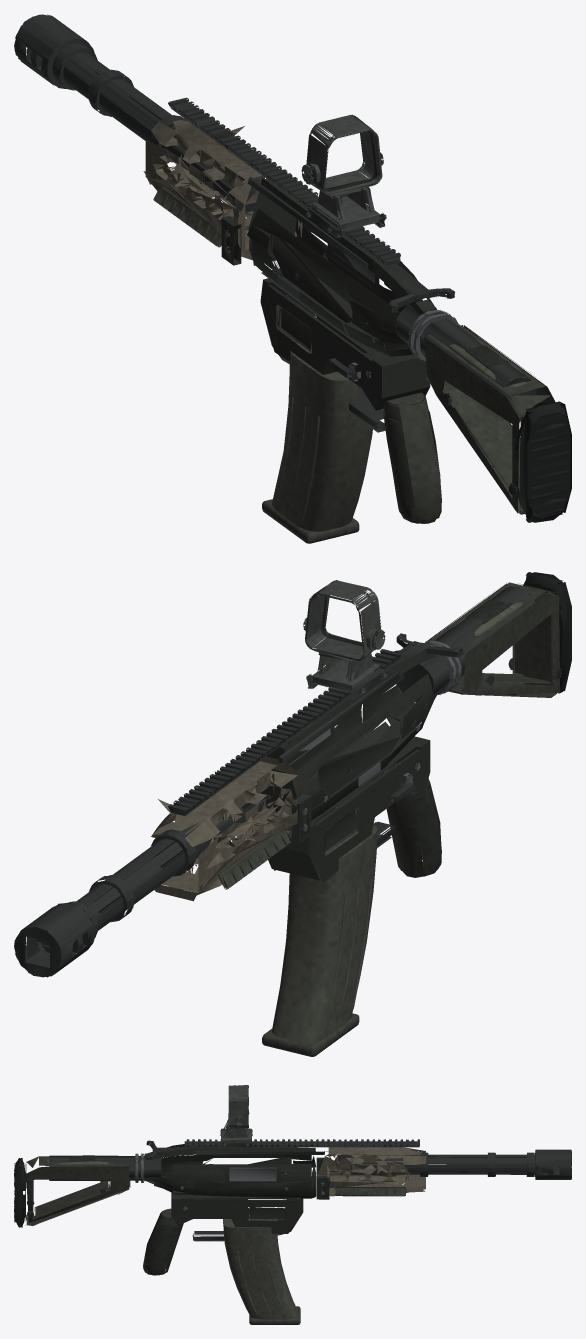
Rendered from carbine_mobile.glb.
The picture shows the model from 3 angles, top to bottom: view 1: azimuth 30°, elevation 25°; view 2: azimuth 150°, elevation 25°; view 3: azimuth 270°, elevation 25°; orthographic projection. The views are drawn at different scales.
Visible parts, largest first — view 1: WeaponBody, Magazine, Butt stock, Butt plate; view 2: WeaponBody, Magazine, Butt stock, Butt plate; view 3: WeaponBody, Magazine, Butt stock, Butt plate.
Part boxes in pixels (x1,y1,x2,y2): WeaponBody: (14, 14, 537, 523); Magazine: (262, 342, 372, 543); Butt stock: (424, 325, 555, 514); Butt plate: (515, 401, 571, 522); WeaponBody: (14, 580, 561, 977); Magazine: (262, 825, 377, 1056); Butt stock: (425, 582, 559, 697); Butt plate: (523, 572, 571, 693); WeaponBody: (27, 1085, 571, 1275); Magazine: (223, 1214, 300, 1324); Butt stock: (25, 1155, 130, 1225); Butt plate: (14, 1158, 25, 1227).
Bounding box in the file's own units: 0.0953 × 0.4507 × 0.9922.
Materials: 14 (9 with a texture image).
